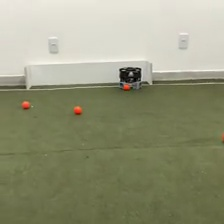ball: (20, 99, 30, 110), (73, 105, 82, 114), (122, 82, 130, 91)
goal: (22, 58, 155, 91)
robot: (117, 65, 143, 90)
